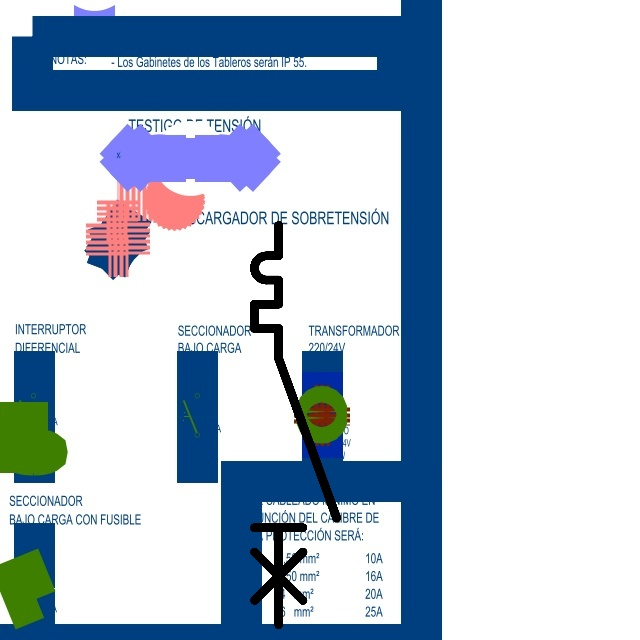interruptor_termomagnetico: (244, 215, 347, 635)
